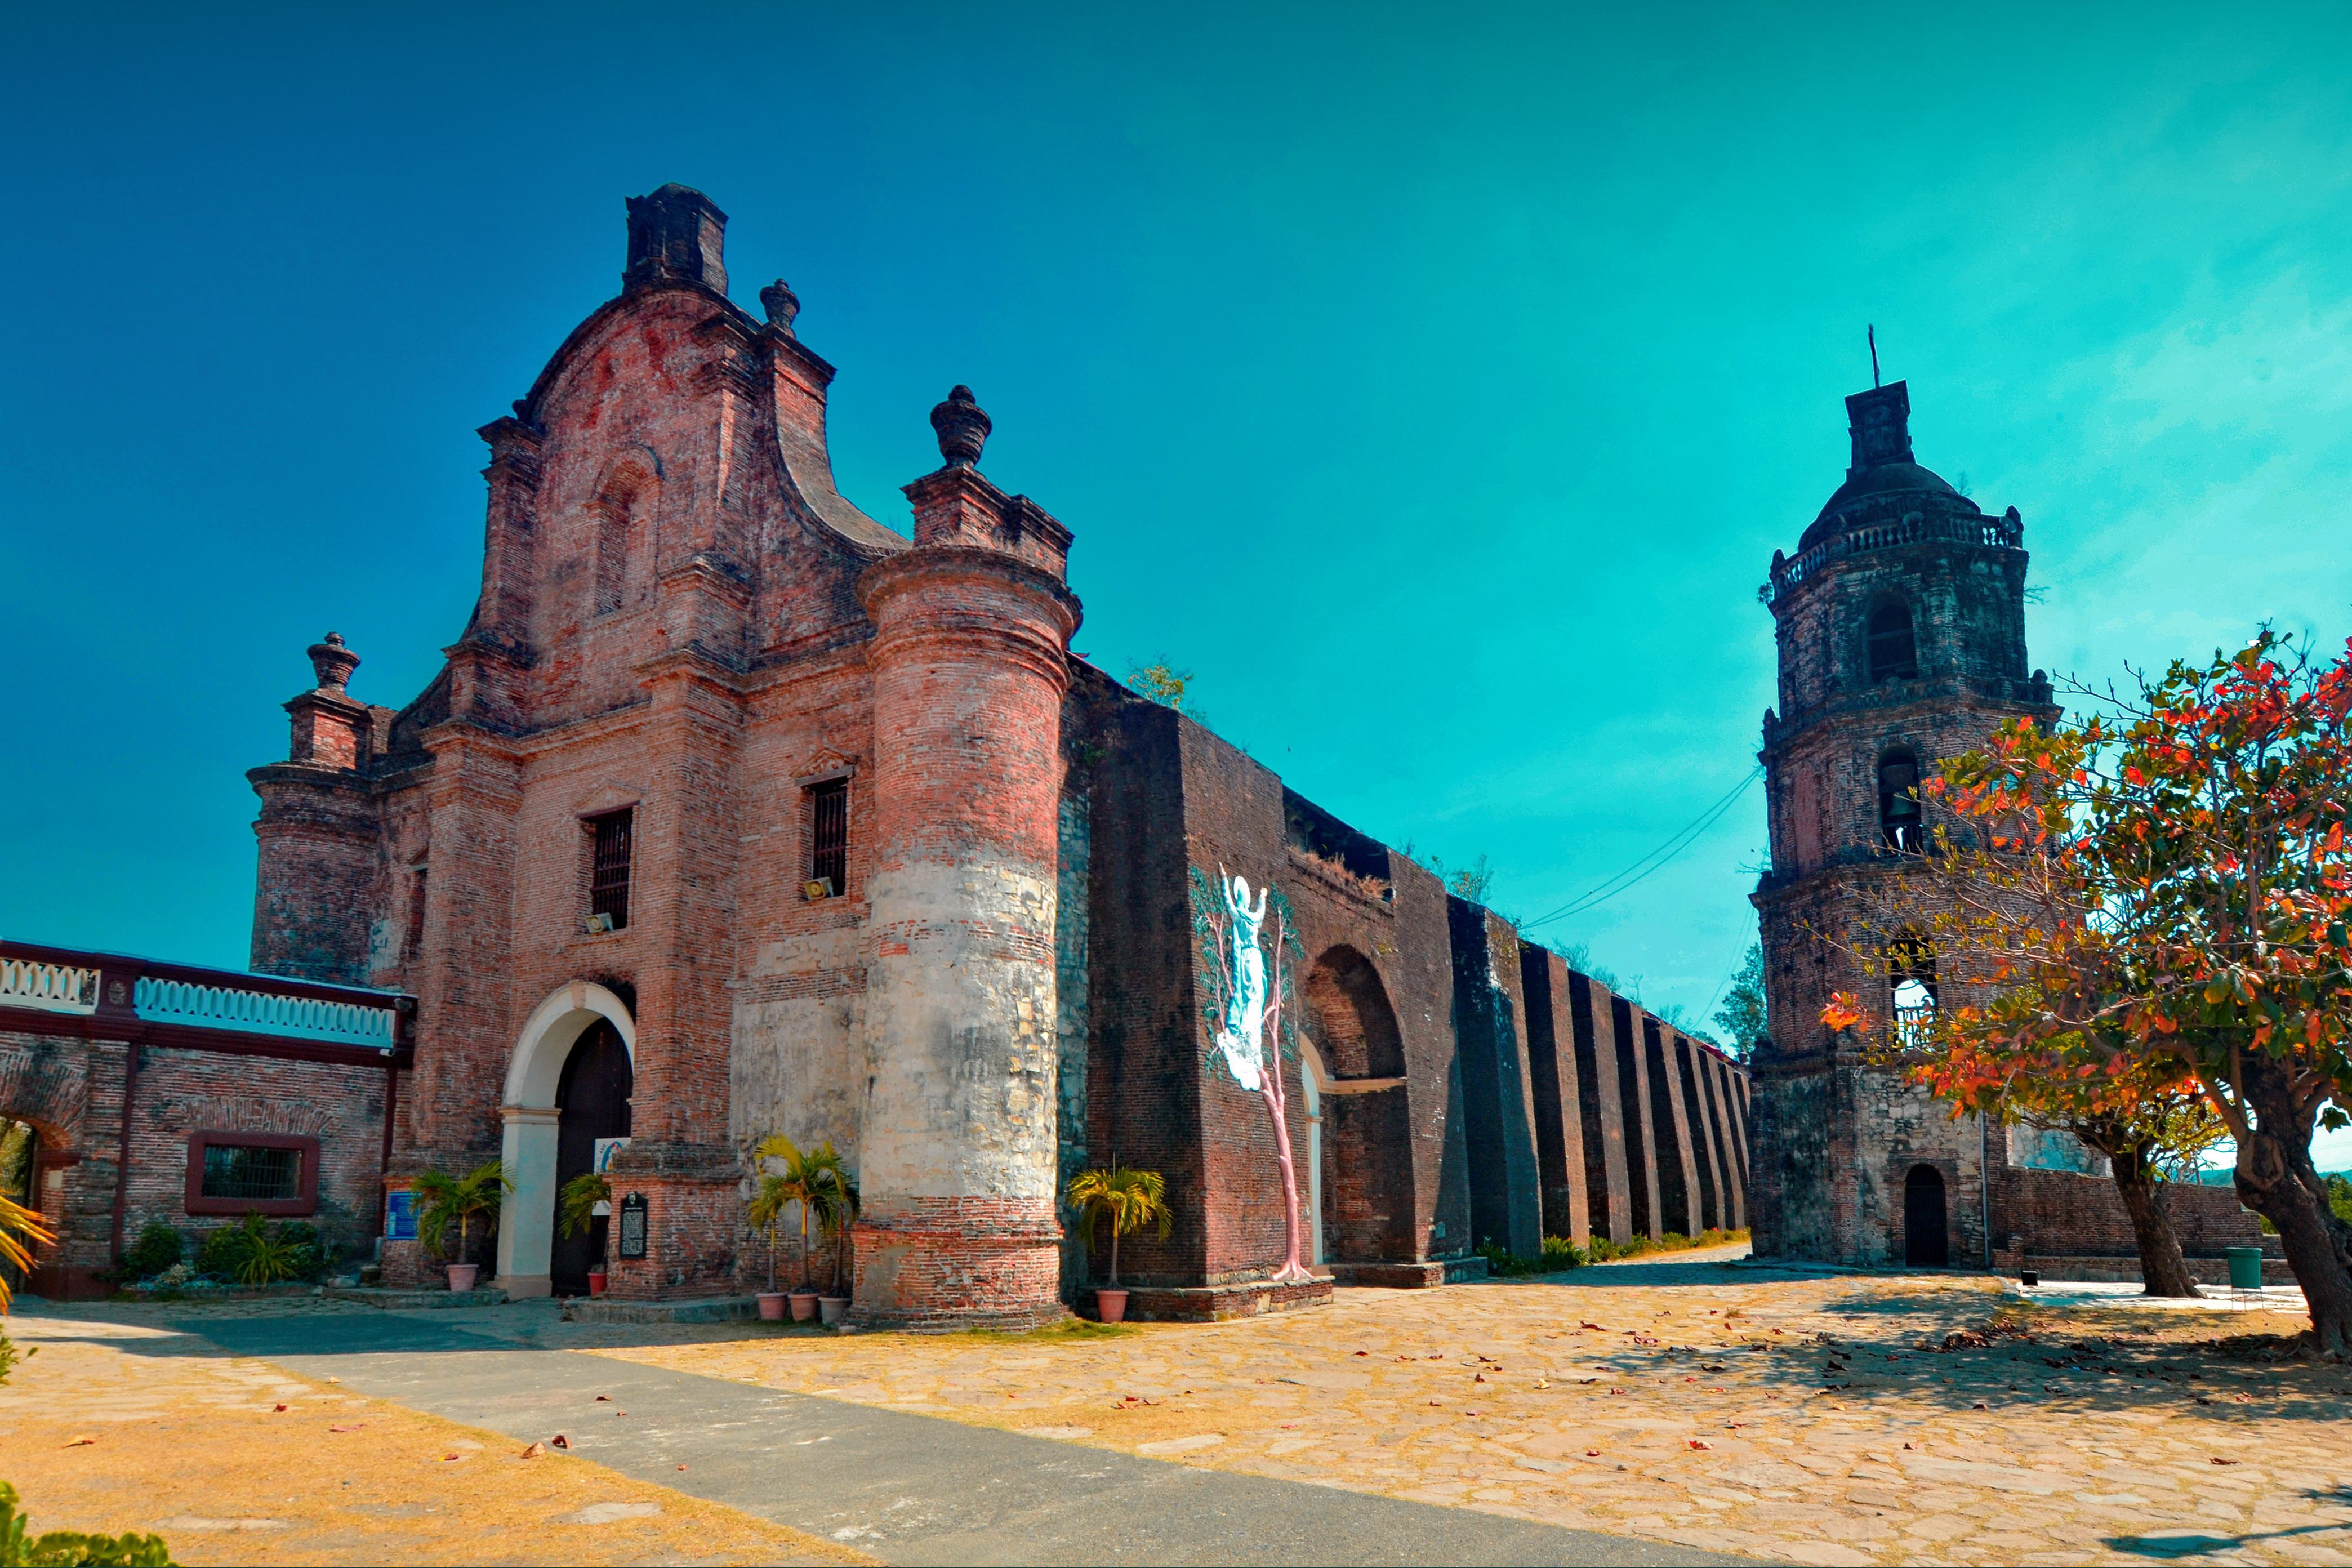santa_maria_church_santa_maria_ilocos_sur: (238, 156, 1071, 1354)
unfinished_paint: (735, 852, 1062, 1216)
